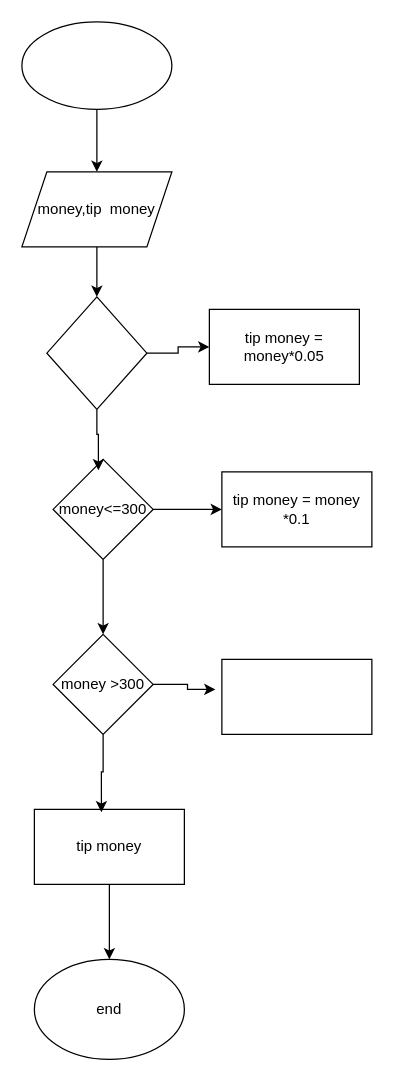
Some shapes in this 394 by 1081 pixel diagram are drawn without their labels. Each missing label, with the centre of its shape:
money<=100: (96,352)
start: (96,65)
tip money = money*0.2: (296,696)
